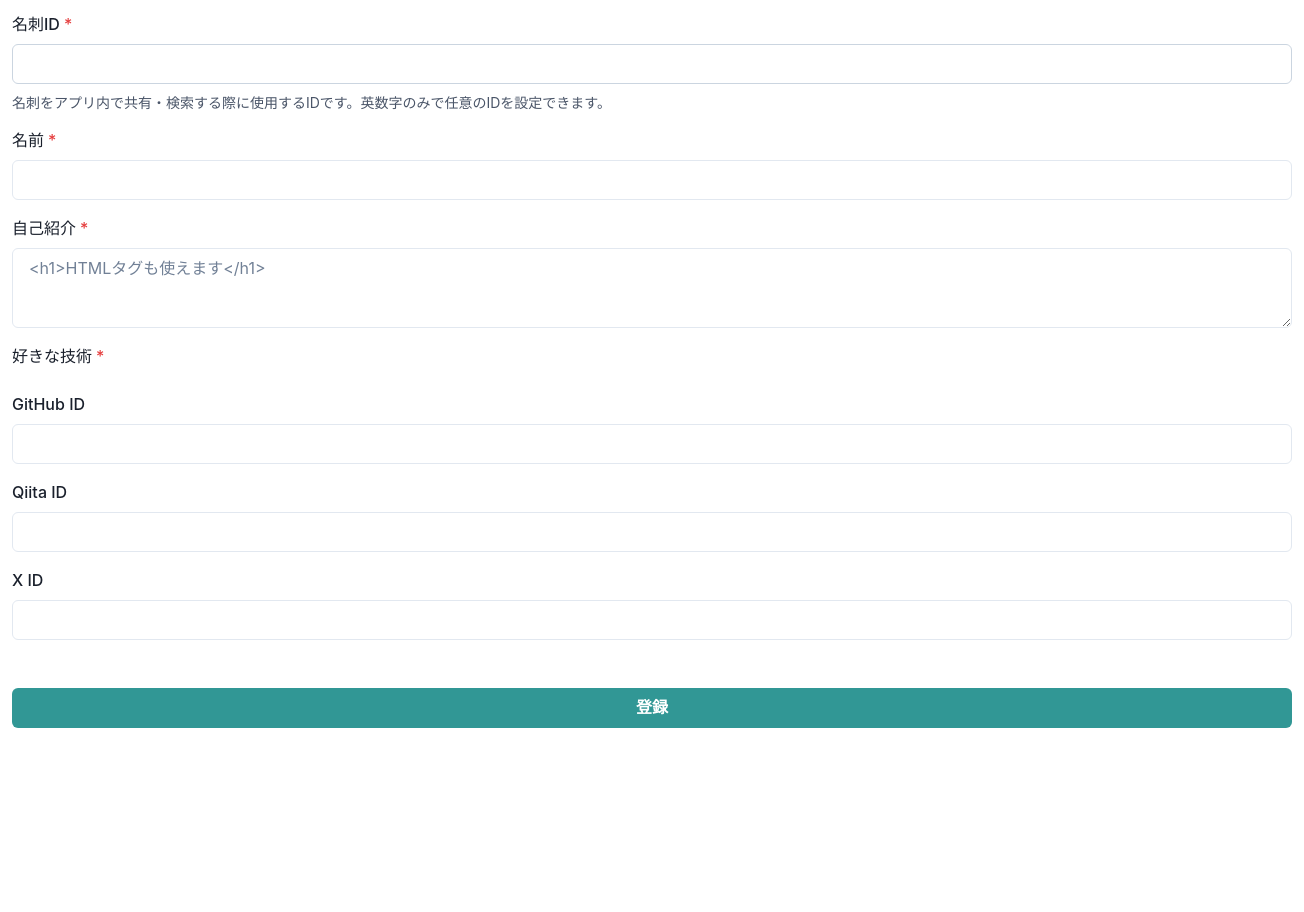
UserCardForm › 好きな技術の入力がないときにエラーメッセージが表示される
Type "testUser1" into the field labelled "名刺ID". click: [652, 64]
box: [12,44,1292,84]
Type "テストユーザー1" into the field labelled "名前". click: [652, 180]
box: [12,160,1292,200]
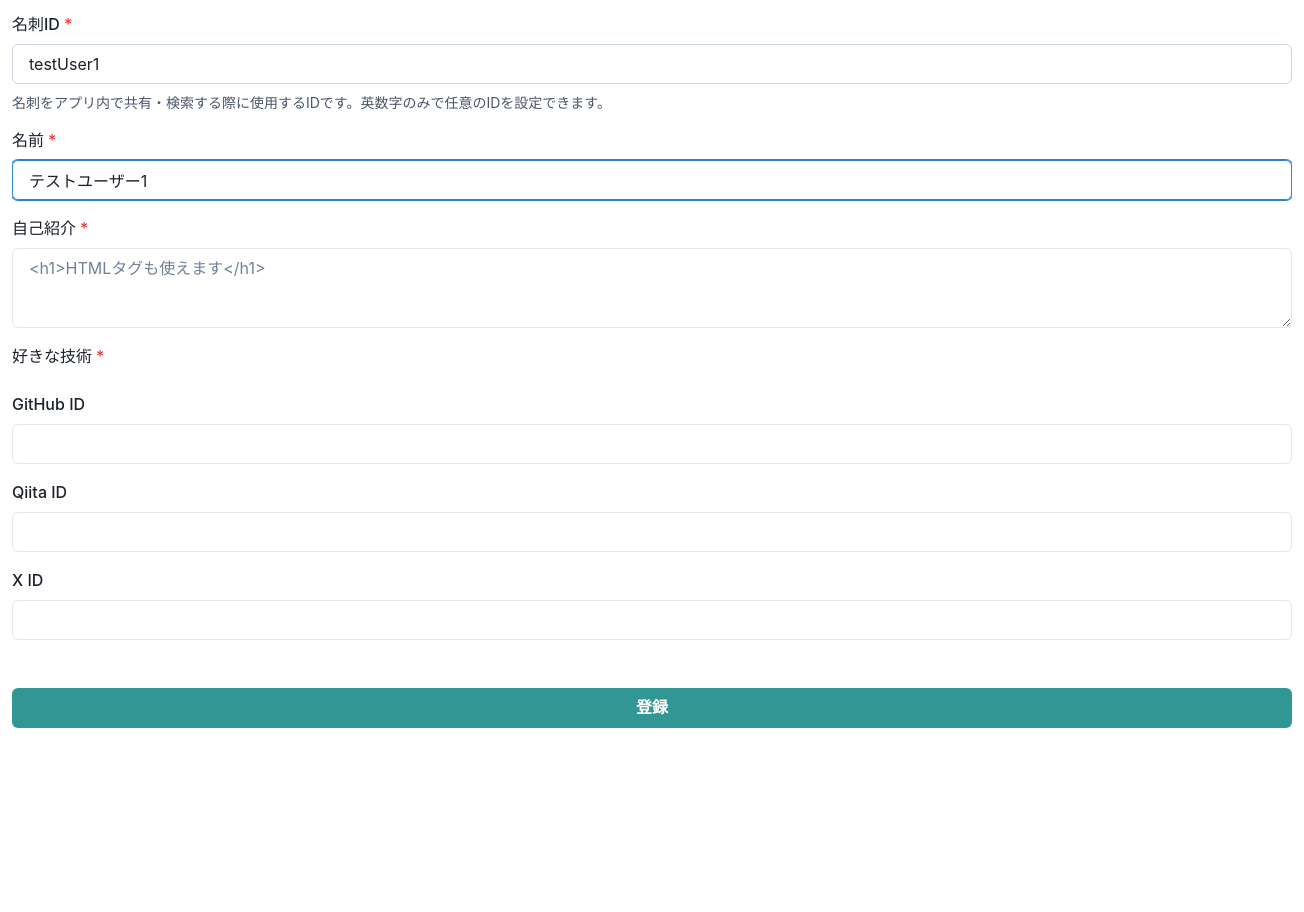
Type "テストユーザーの自己紹介" into the text box labelled "自己紹介". click: [652, 288]
box: [12,248,1292,328]
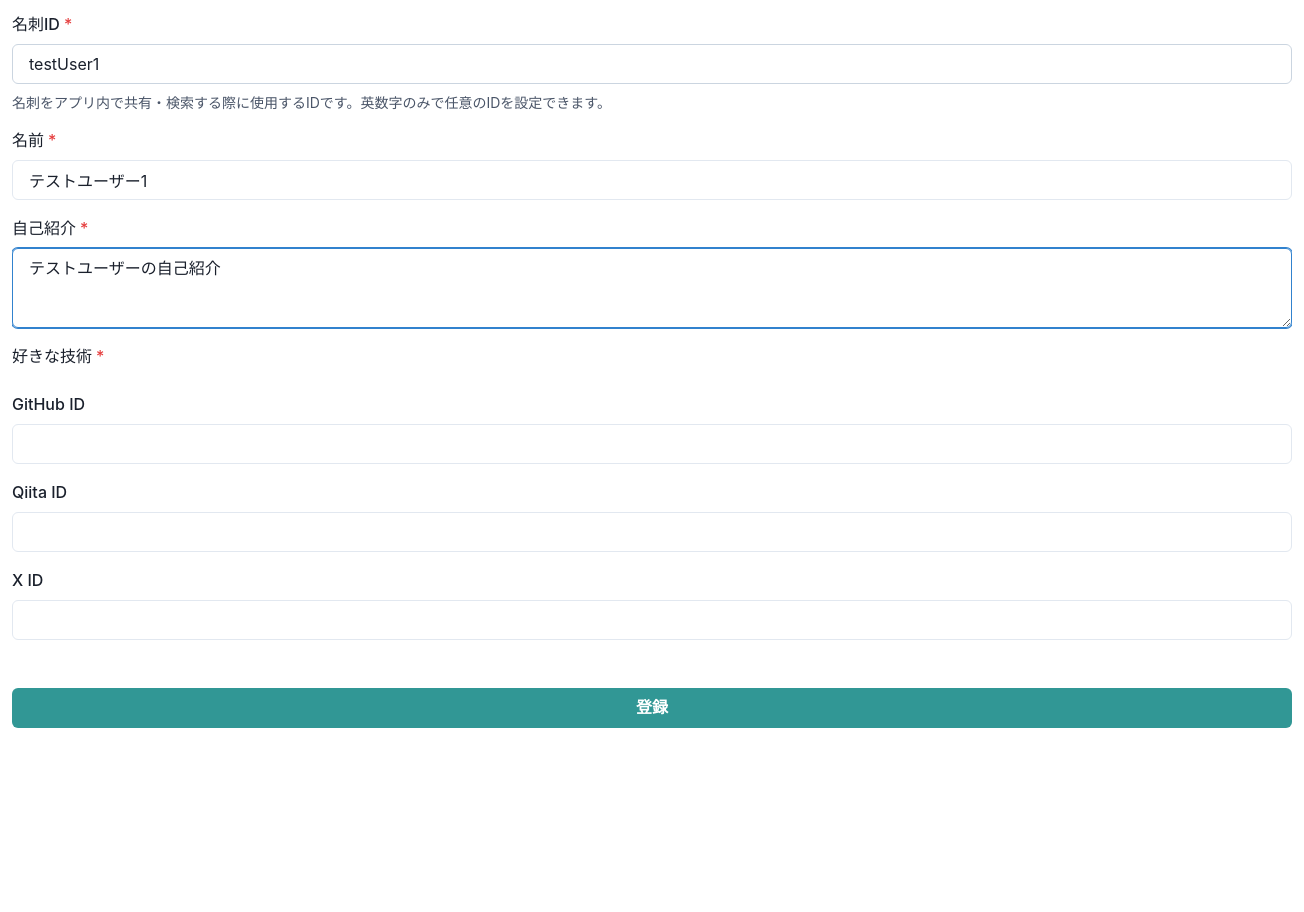
Type "testUser1" into the field labelled "GitHub ID". click: [652, 444]
box: [12,424,1292,464]
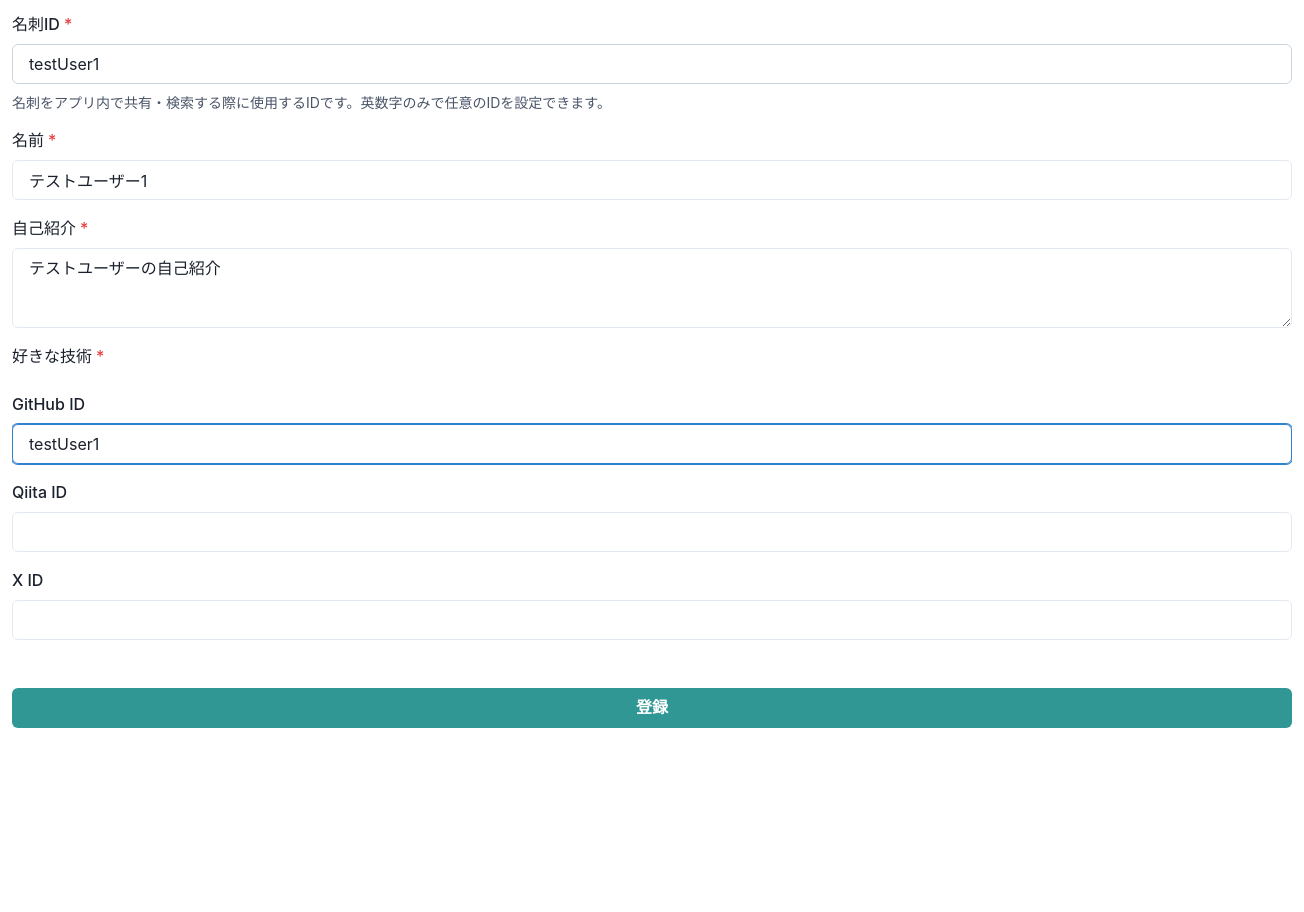
Type "testUser1" into the field labelled "Qiita ID". click: [652, 532]
box: [12,512,1292,552]
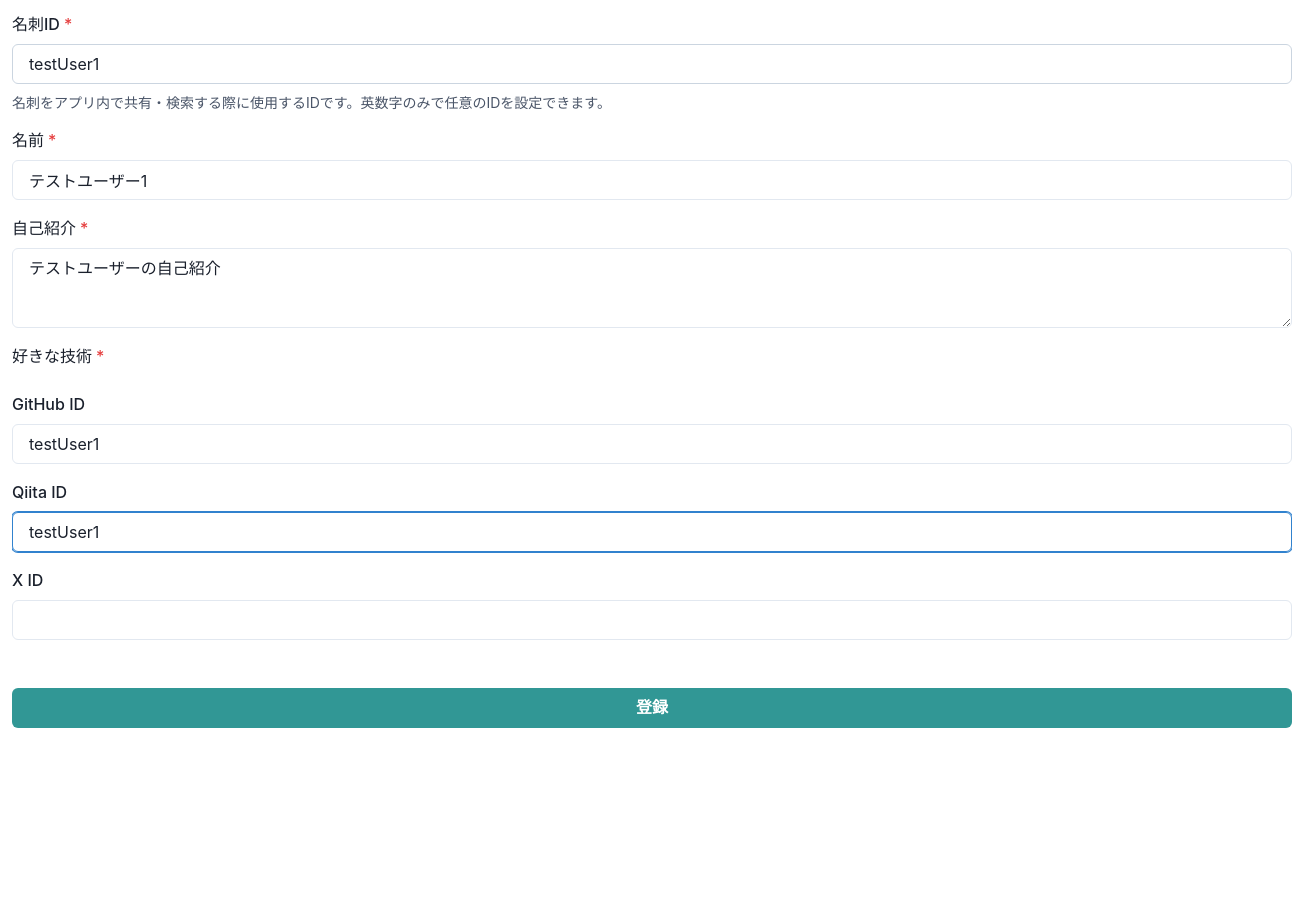
Type "testUser1" into the field labelled "X ID". click: [652, 620]
box: [12,600,1292,640]
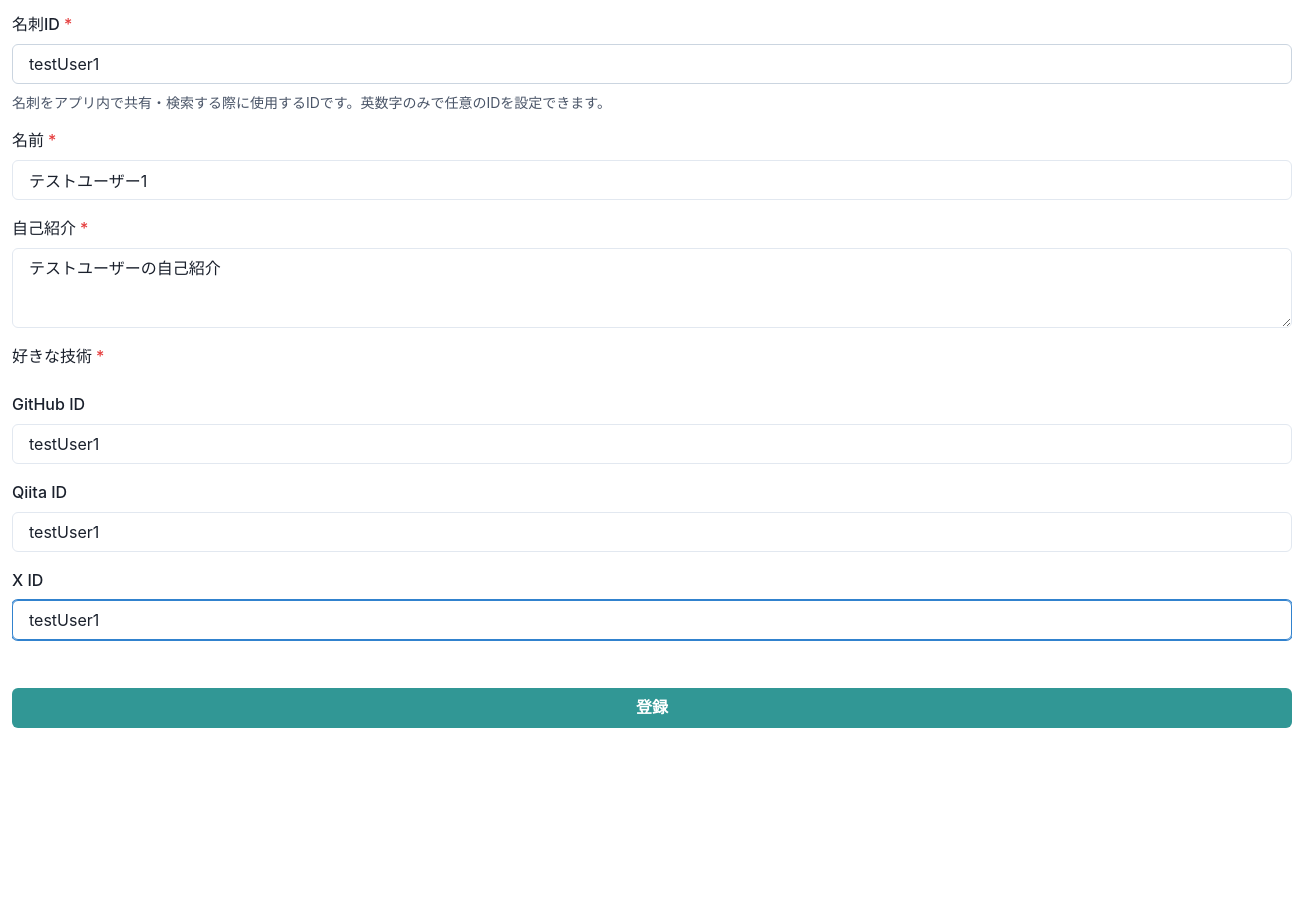
Click the button "登録". click: [652, 708]
box: [12,688,1292,728]
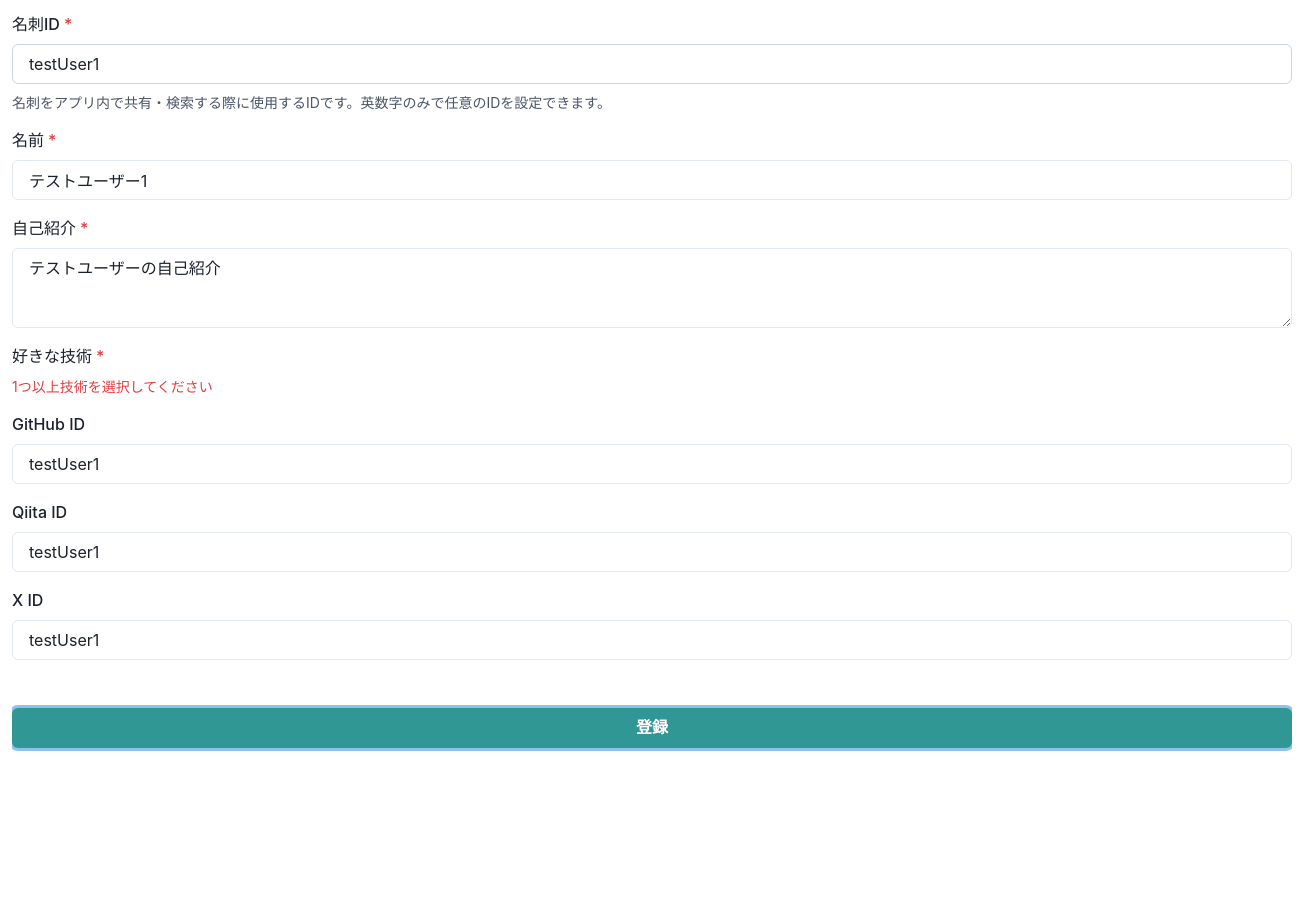
Check: the text "1つ以上技術を選択してください" is shown, box [12,378,213,395]
